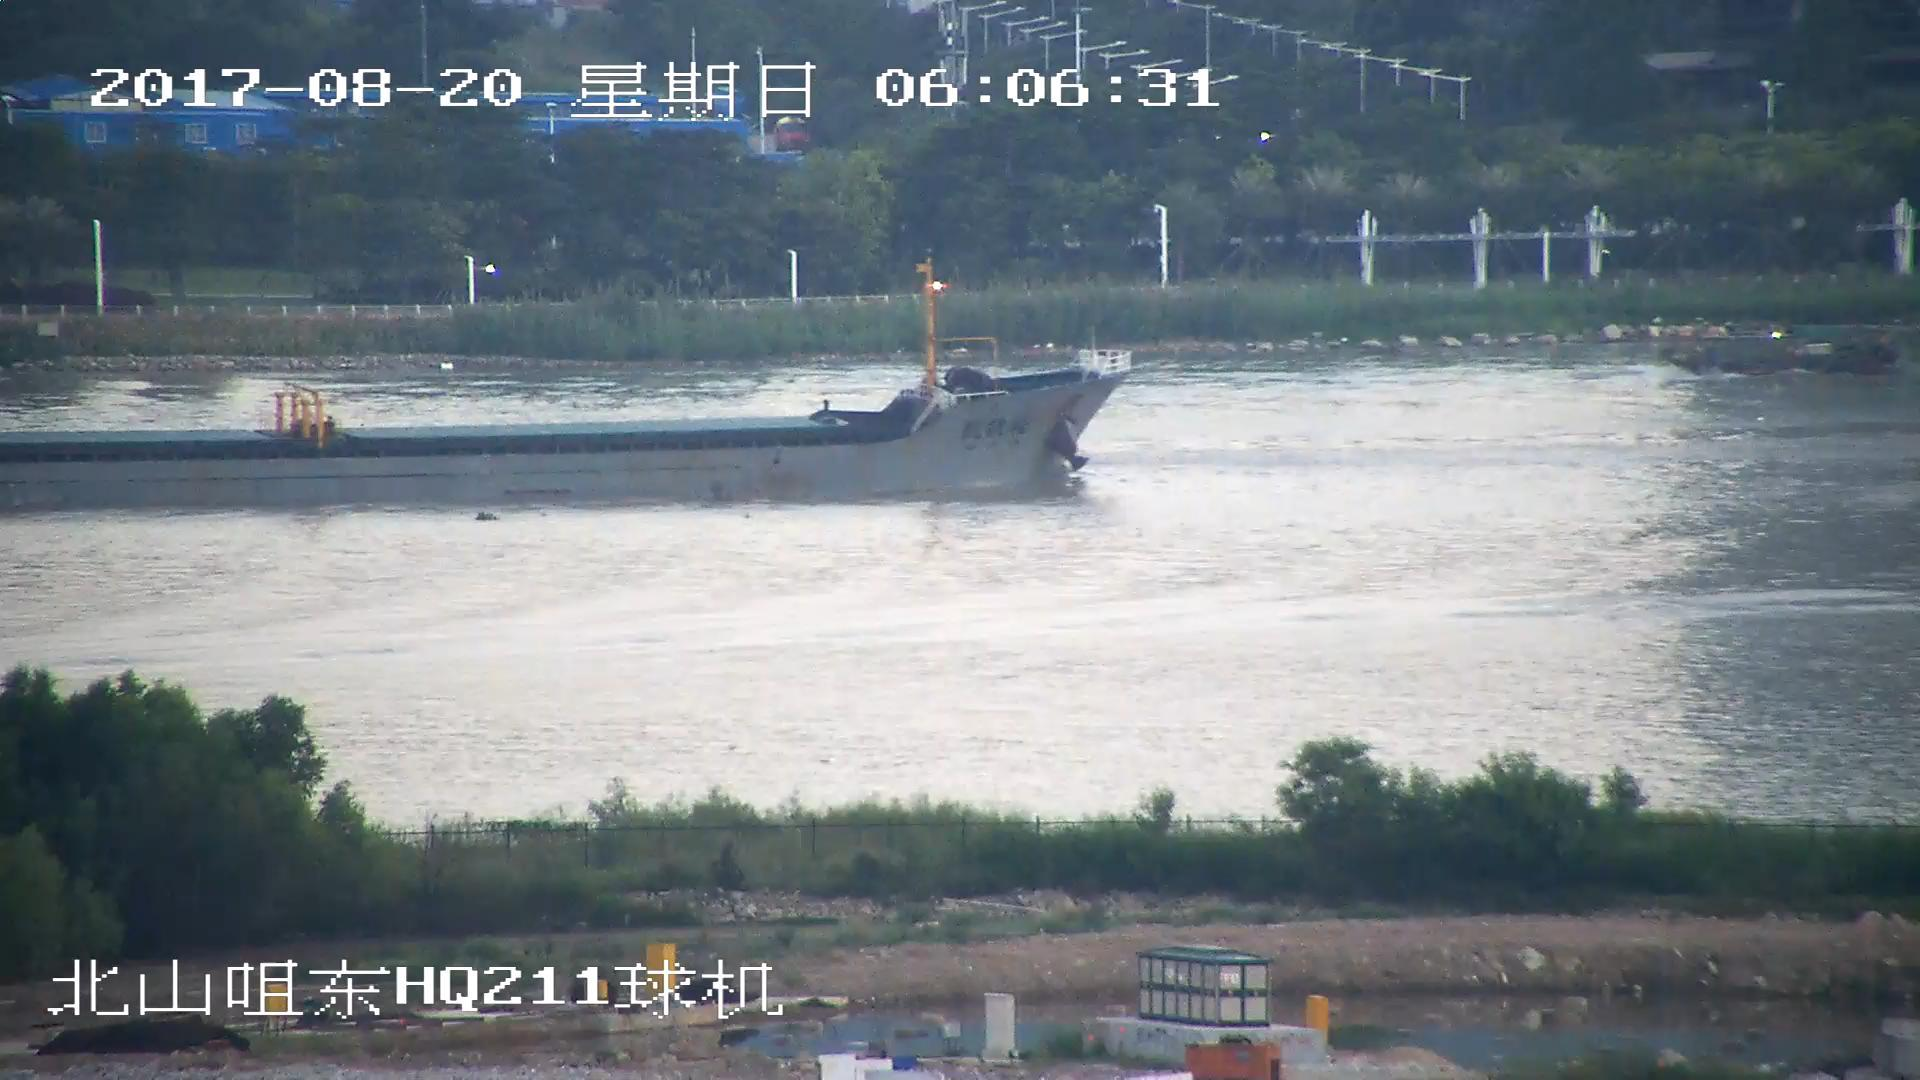Ship: (3, 287, 1127, 505)
